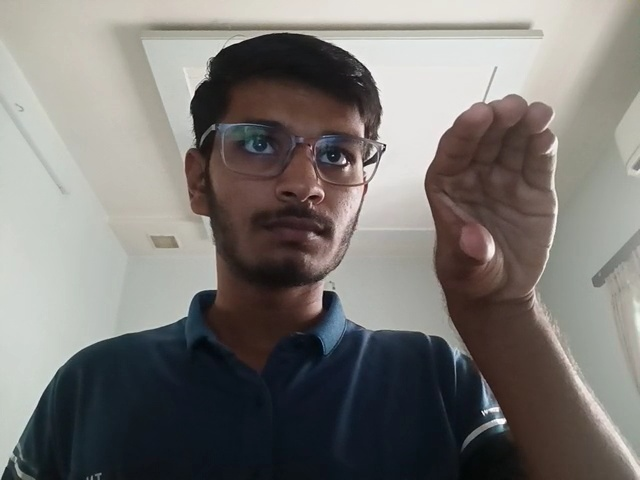No: (418, 89, 571, 318)
